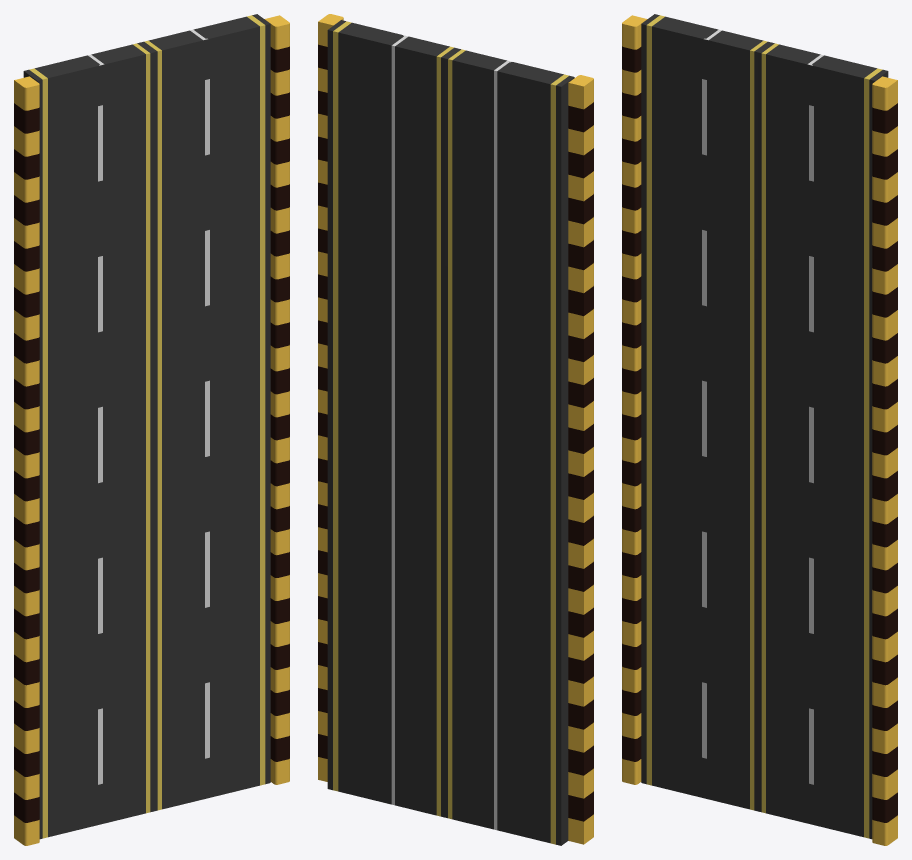
The model's file is UpdatedRoad (4).fbx.
3 renders of one model, left to right at view 1: azimuth 30°, elevation 25°; view 2: azimuth 150°, elevation 25°; view 3: azimuth 330°, elevation 25°, orthographic.
Visible parts, largest first — view 1: Road; view 2: Road; view 3: Road.
Boxes of the visible parts, x1,y1,x2,y2 form: Road: (14, 14, 289, 845); Road: (318, 14, 593, 845); Road: (622, 14, 897, 845).
Bounding box in the file's own units: 2271 × 6198 × 262.
